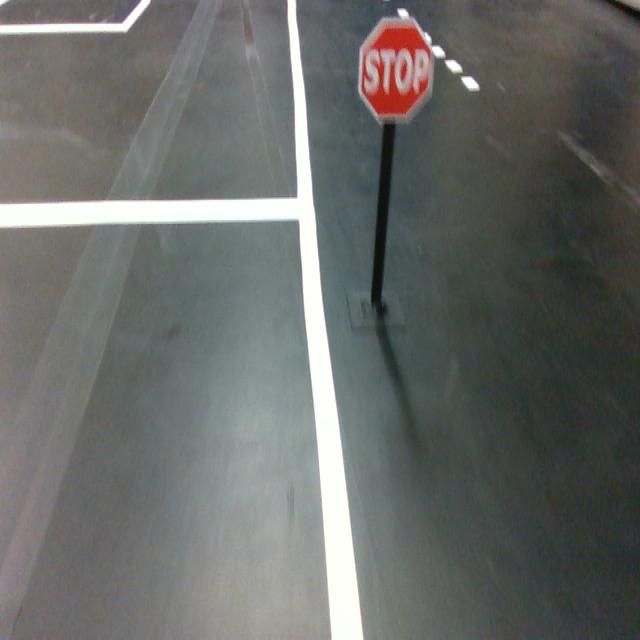stop-sign: (356, 15, 436, 126)
